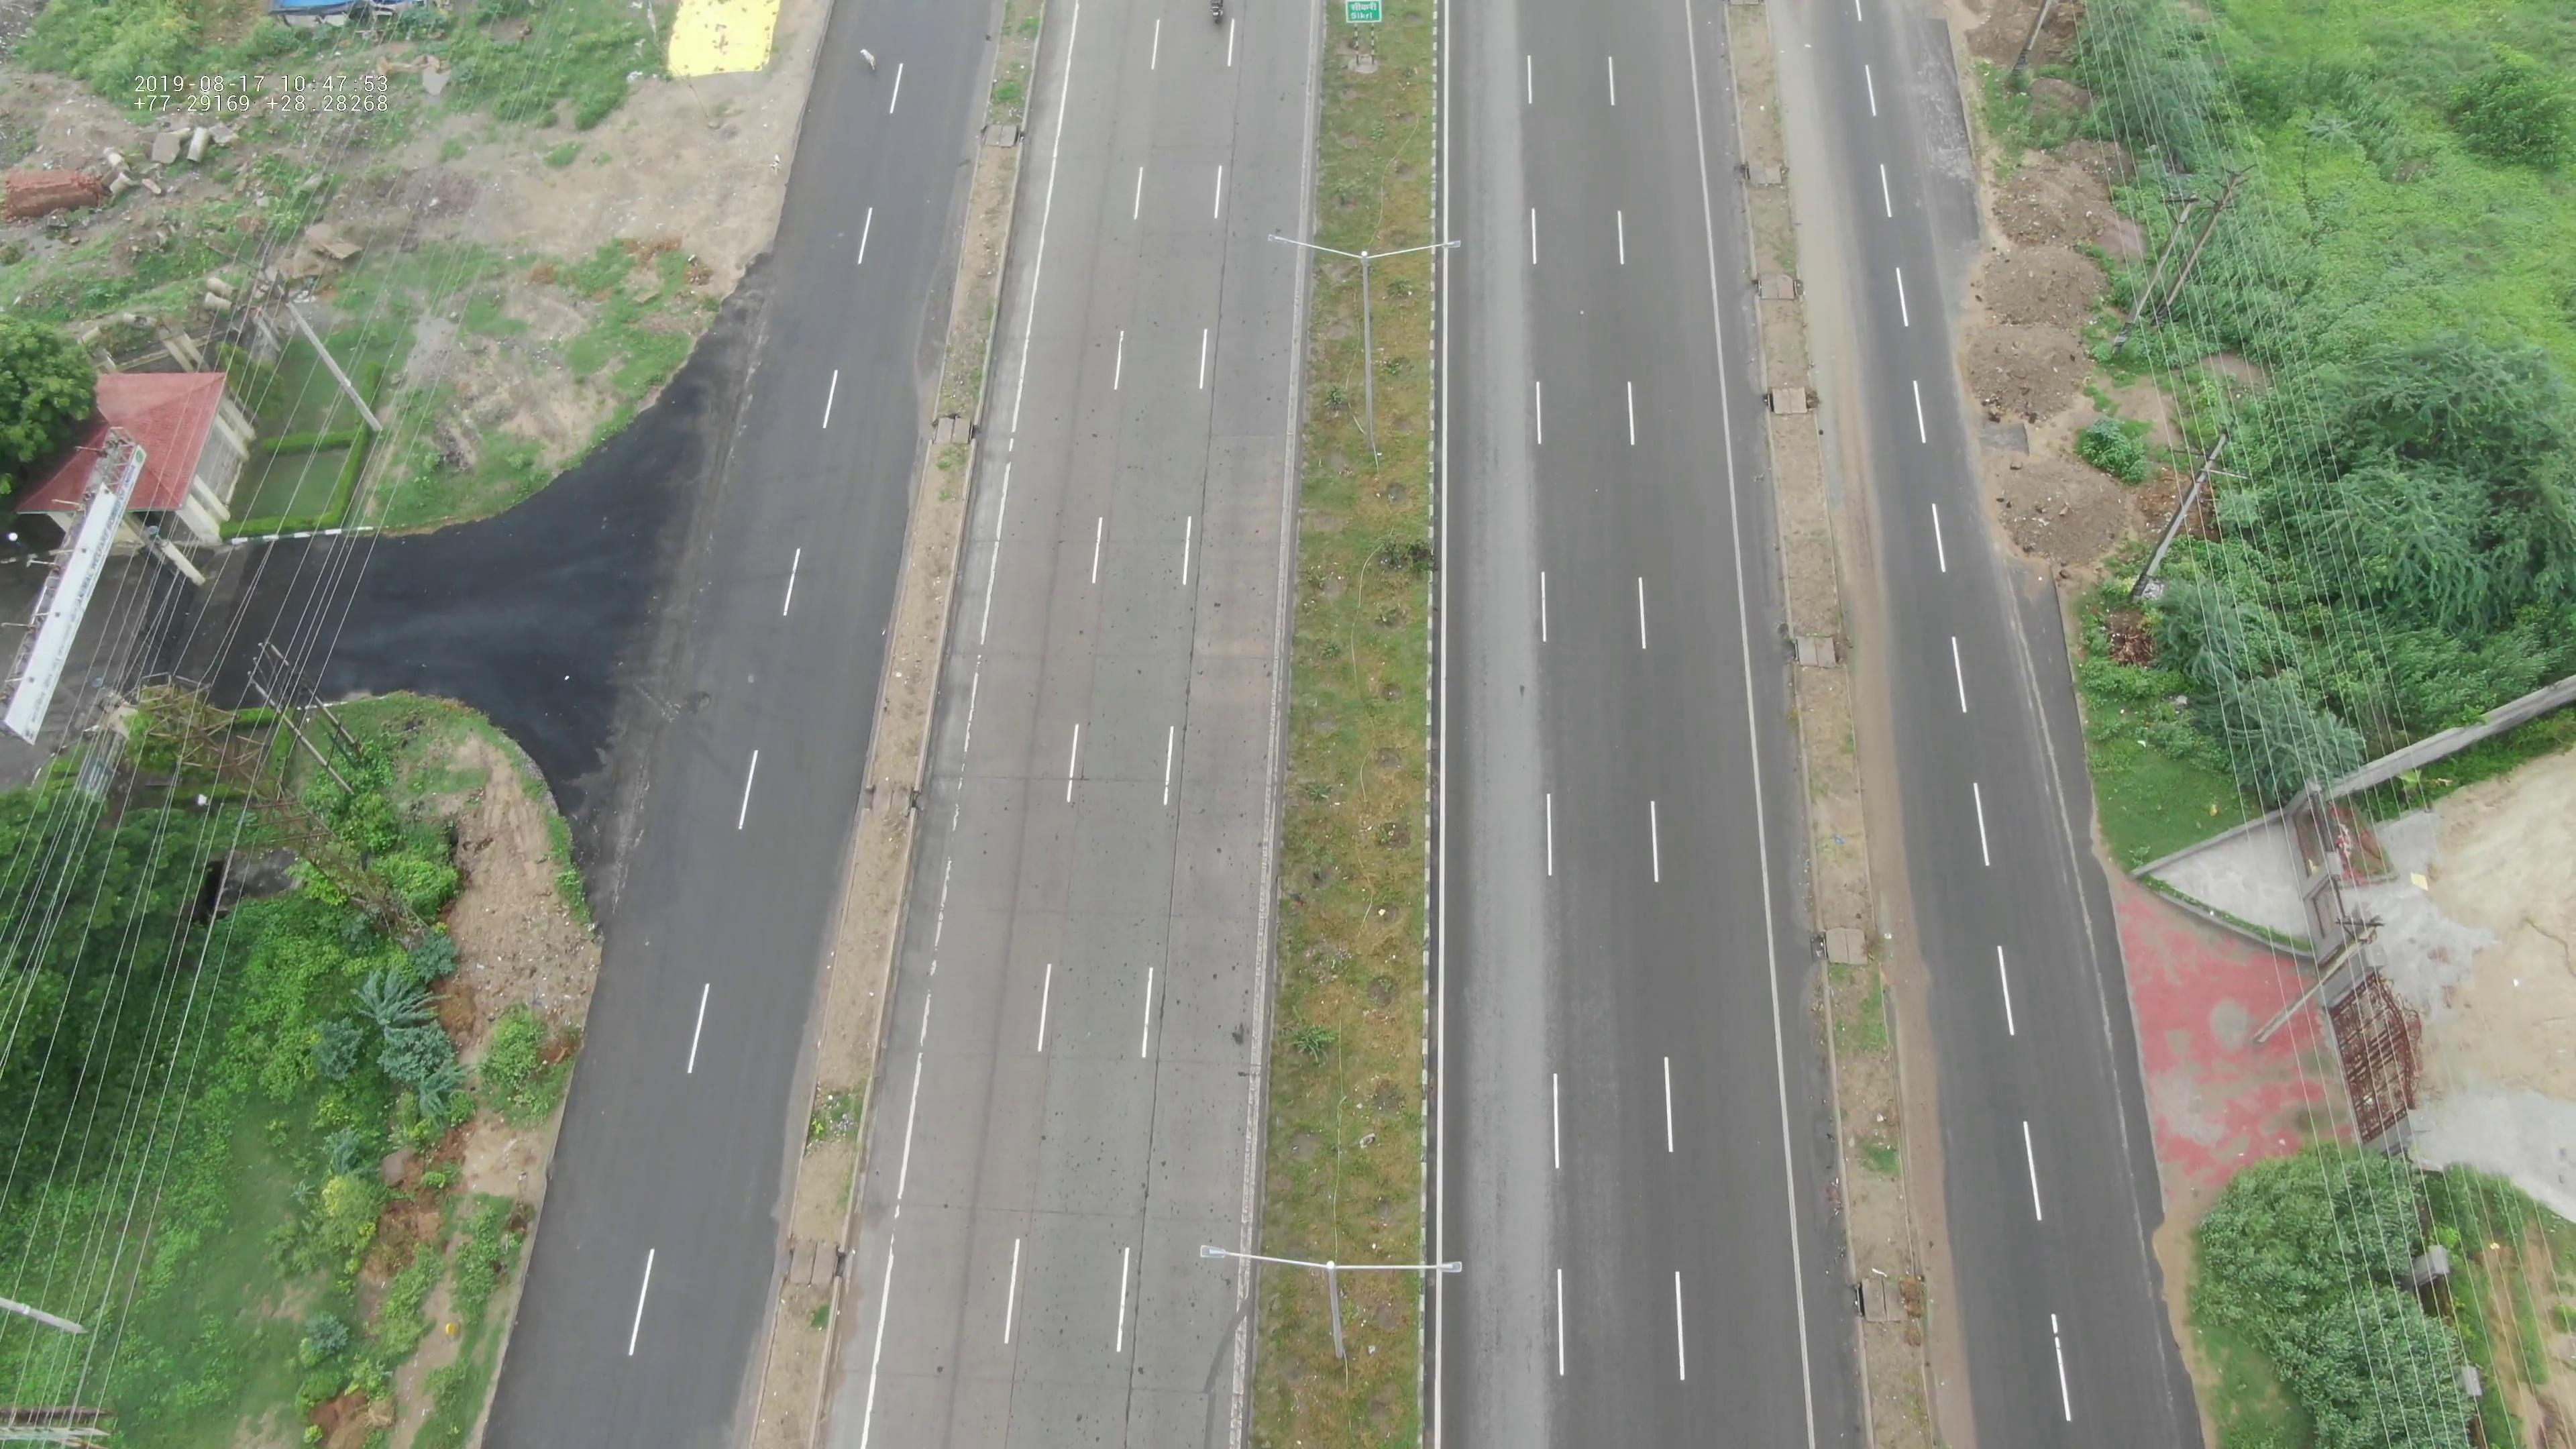Mud_Heaps: (1957, 76, 2153, 548)
Muddy_road: (1150, 508, 1265, 630)
